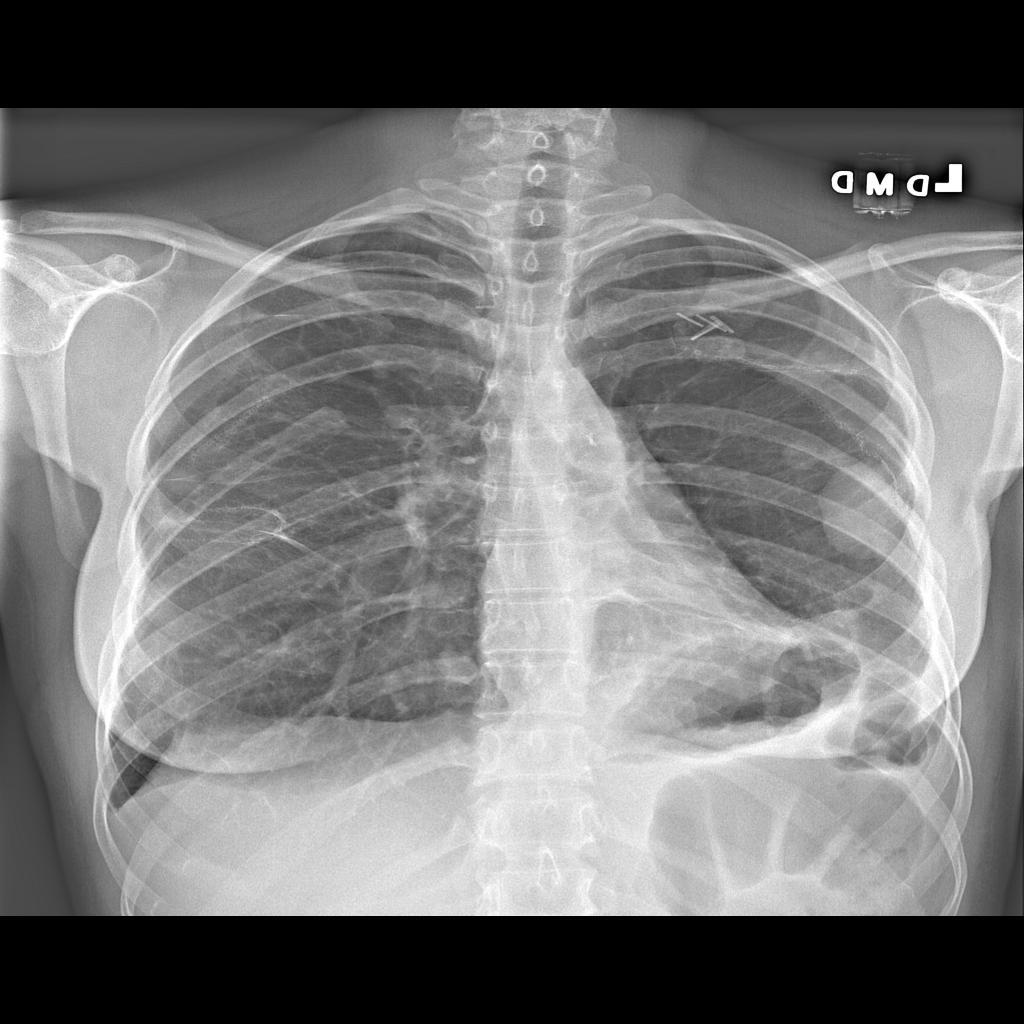Nodule: (817, 458, 914, 567), (776, 434, 822, 473)
